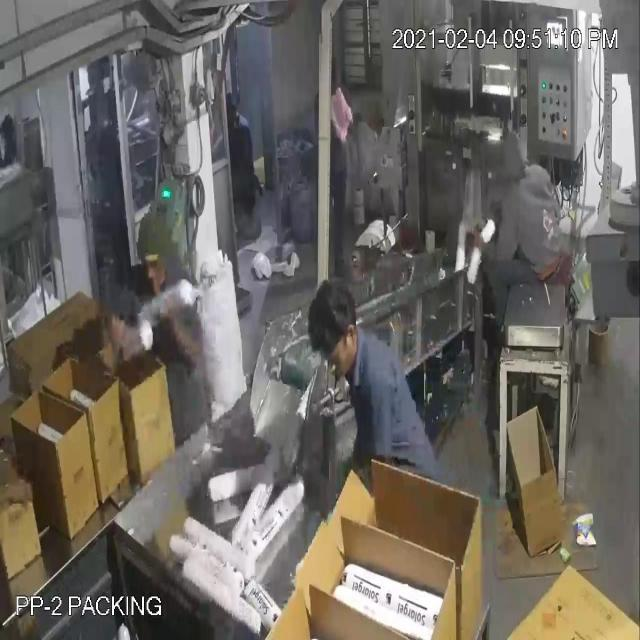No_Gloves: (20, 44, 182, 488)
